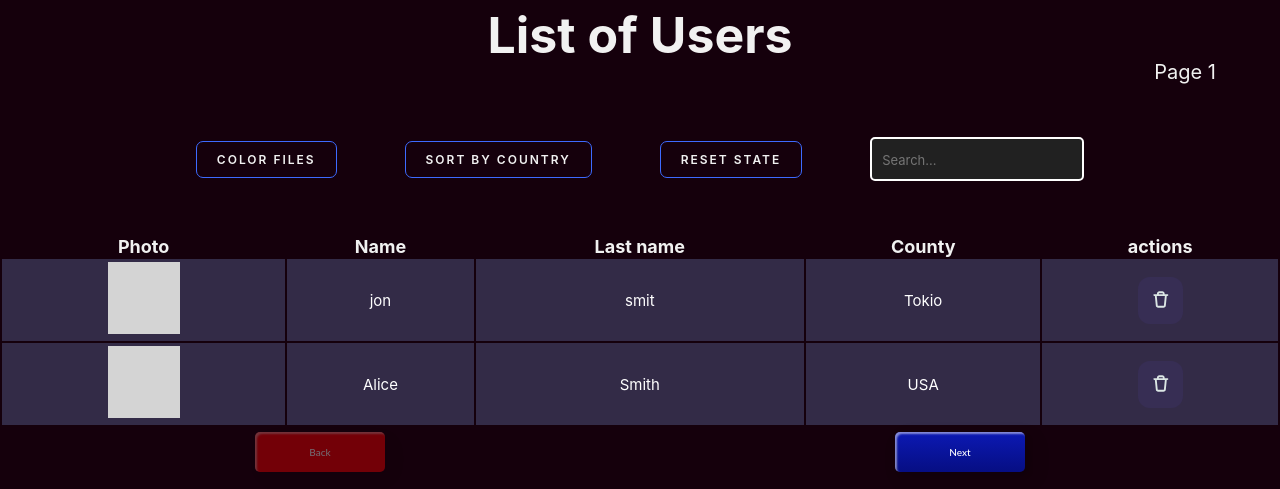
Test: App Component Tests › handles sorting by country and toggles isOrderCountry state
What coordinates should you click on to do the following:
click the button "Sort by country"
I would click on:
 (498, 159)
Its box is [404, 140, 592, 178].
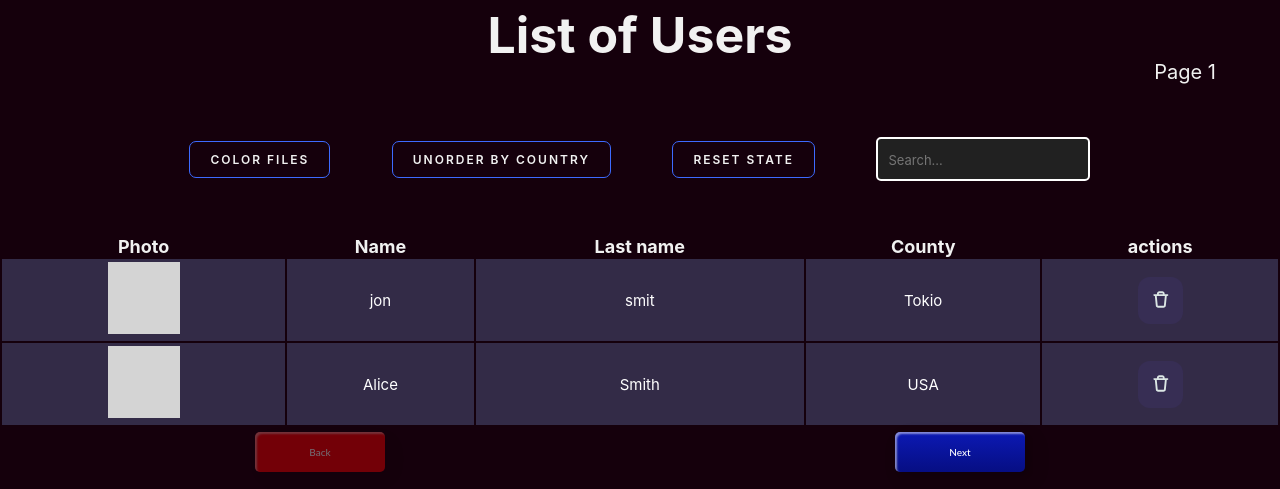
Check: the button "Sort by country" reads "Unorder by country"
Check: the button "Unorder by country" is shown
What coordinates should you click on to do the following:
click the button "Unorder by country"
I would click on:
 (501, 159)
Its box is [392, 140, 611, 178].
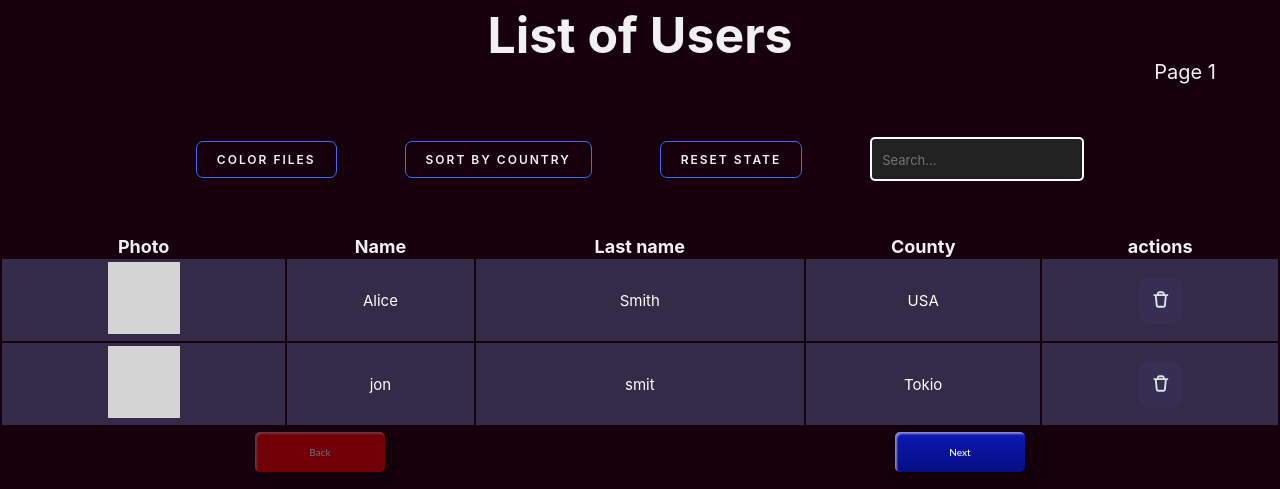
Check: the button "Unorder by country" reads "Sort by country", box [404, 140, 592, 178]
